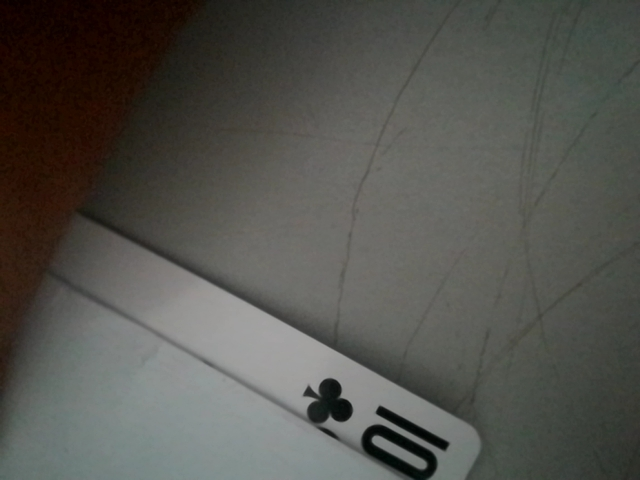mh 10: (290, 369, 465, 477)
